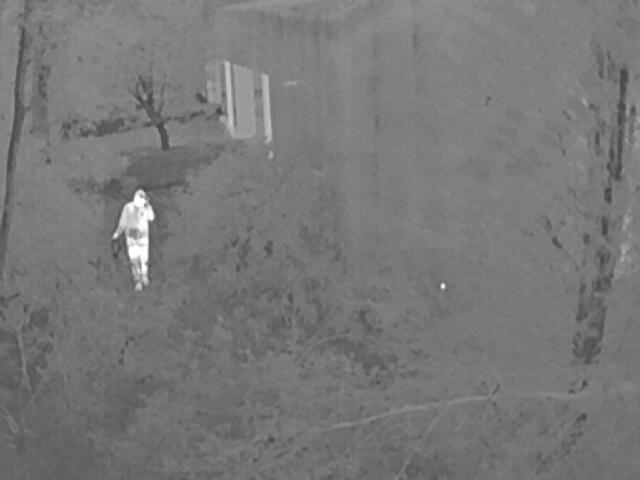person: (111, 186, 154, 292)
